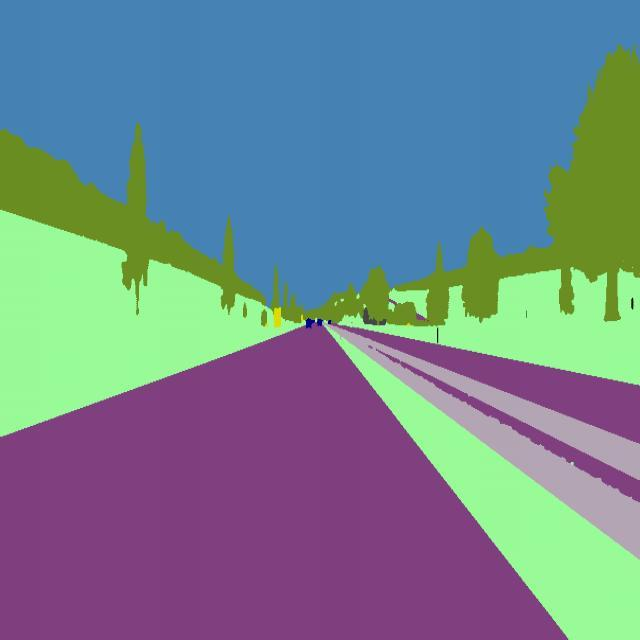safe: (314, 315, 324, 330), (304, 314, 312, 332)
